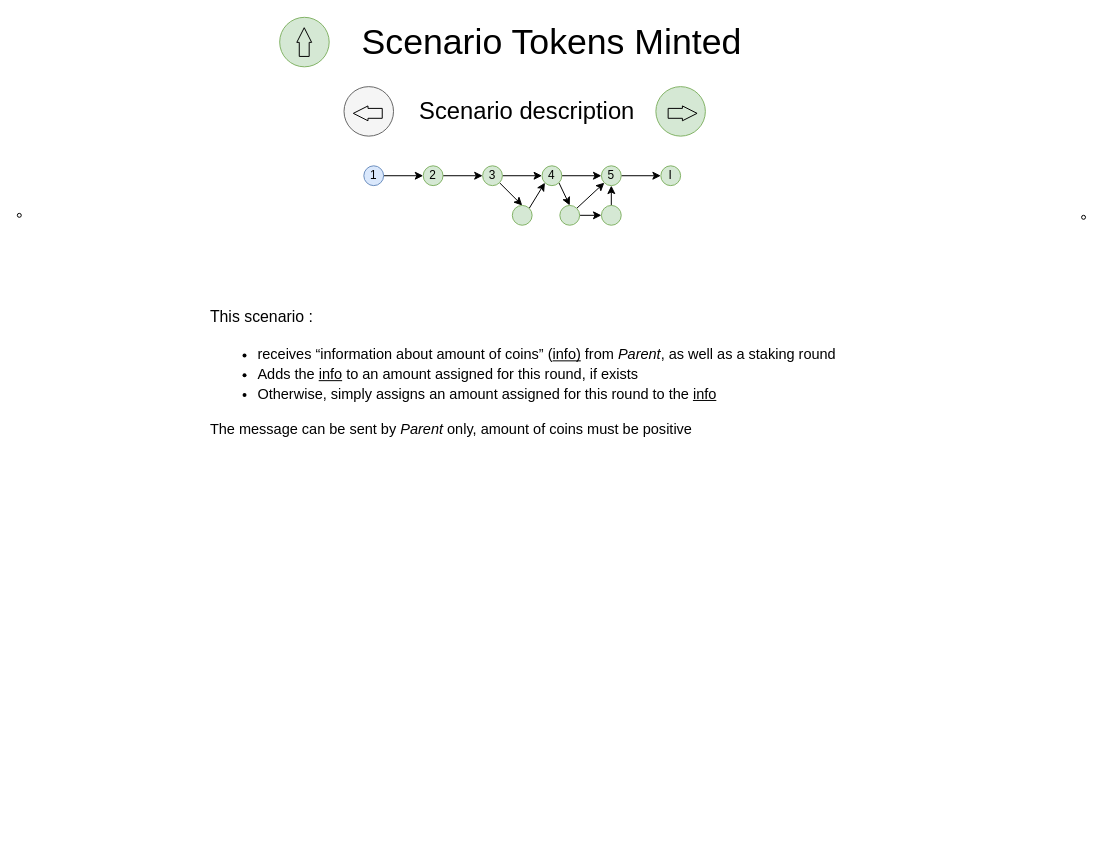
Image size: 1103x846. Some labels were removed from this diagram. Each missing label, with the centre of its shape:
"S1" belongs at point (521, 214).
"S2" belongs at point (610, 214).
"T1" belongs at point (569, 214).
